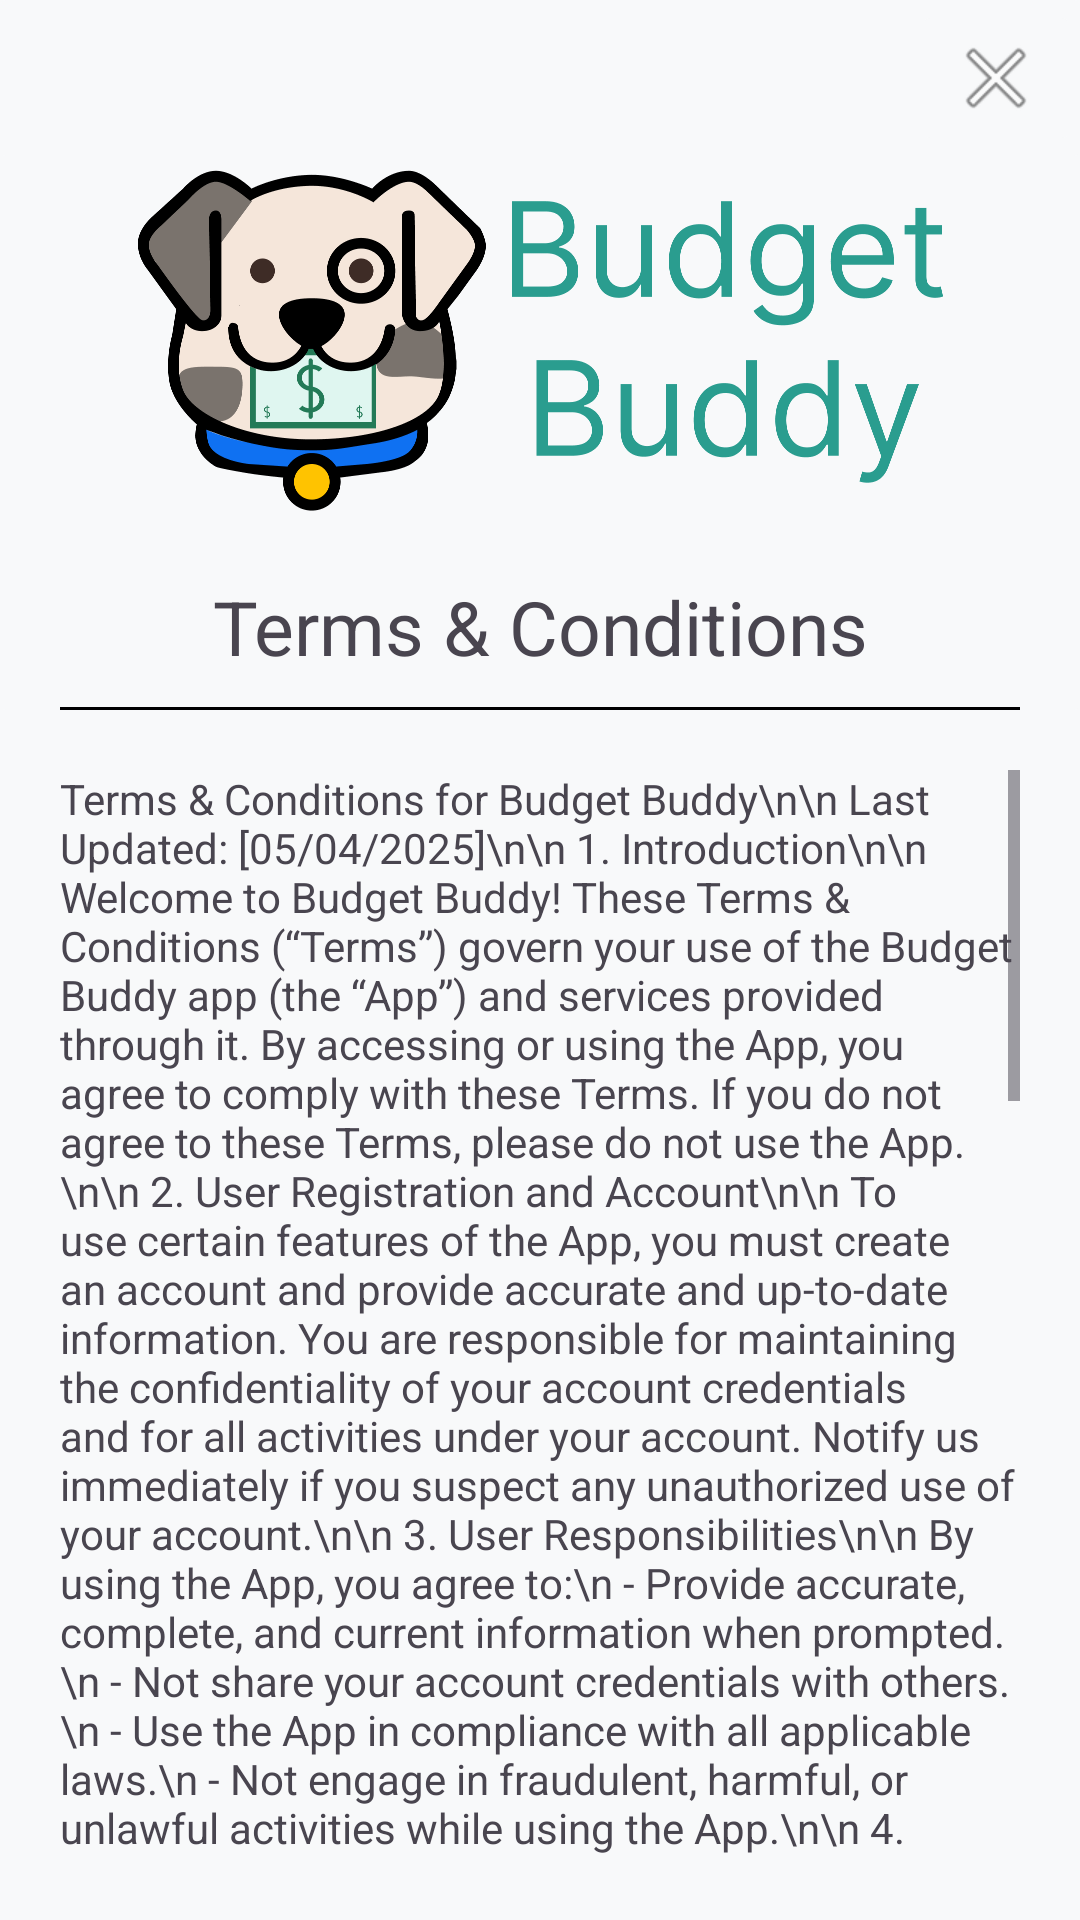

Named icons in this screenshot (1080px×1920px) and their centers, point (x, y):
Exit: point (996, 78)
